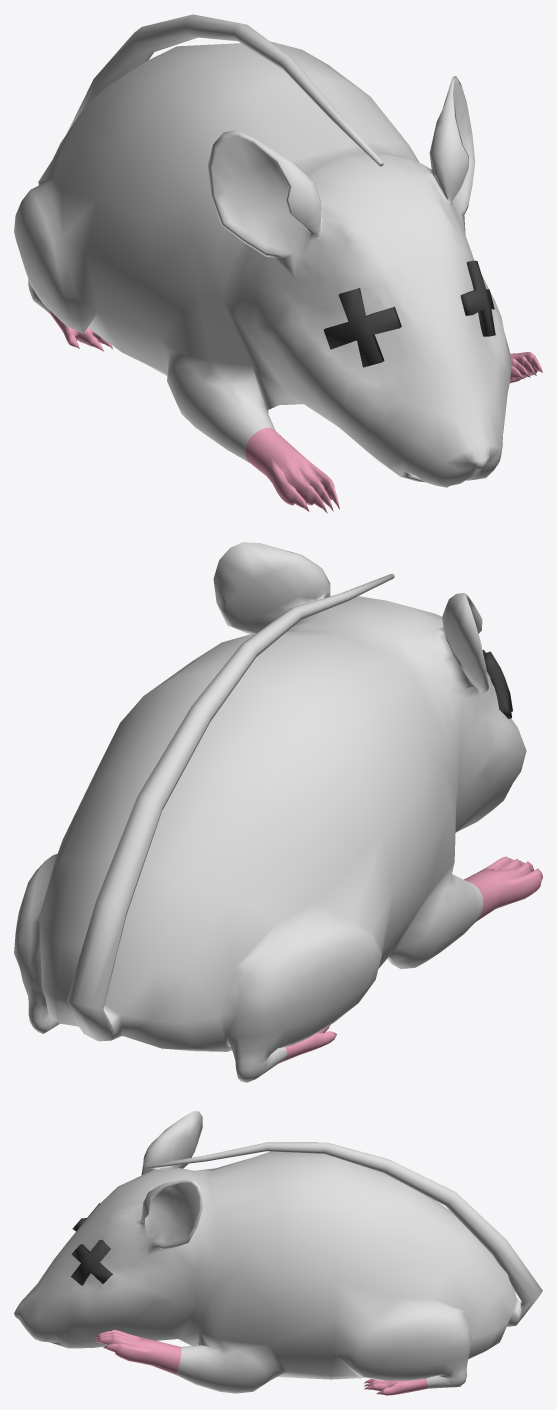
The model's file is DeadMouse.fbx.
3 views of the same model, one above another, from view 1: azimuth 30°, elevation 25°; view 2: azimuth 150°, elevation 25°; view 3: azimuth 270°, elevation 25° (orthographic). The views are drawn at different scales.
Visible parts, largest first — view 1: DeadMouse; view 2: DeadMouse; view 3: DeadMouse.
Part boxes in pixels (<box>): DeadMouse: <box>14,14,542,513</box>; DeadMouse: <box>14,542,542,1082</box>; DeadMouse: <box>14,1111,542,1395</box>.
Bounding box in the file's own units: 51.47 × 53.57 × 117.
